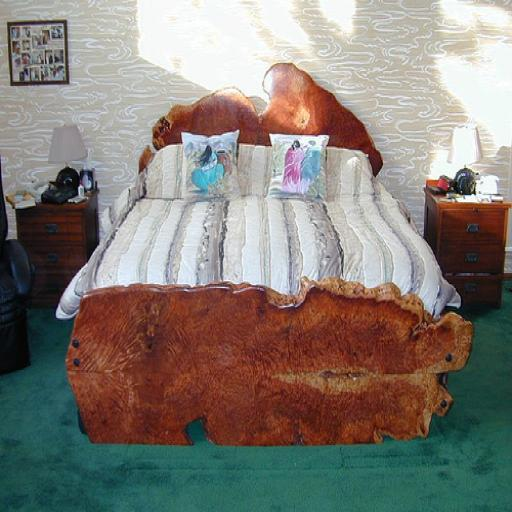bed: (76, 63, 448, 465)
